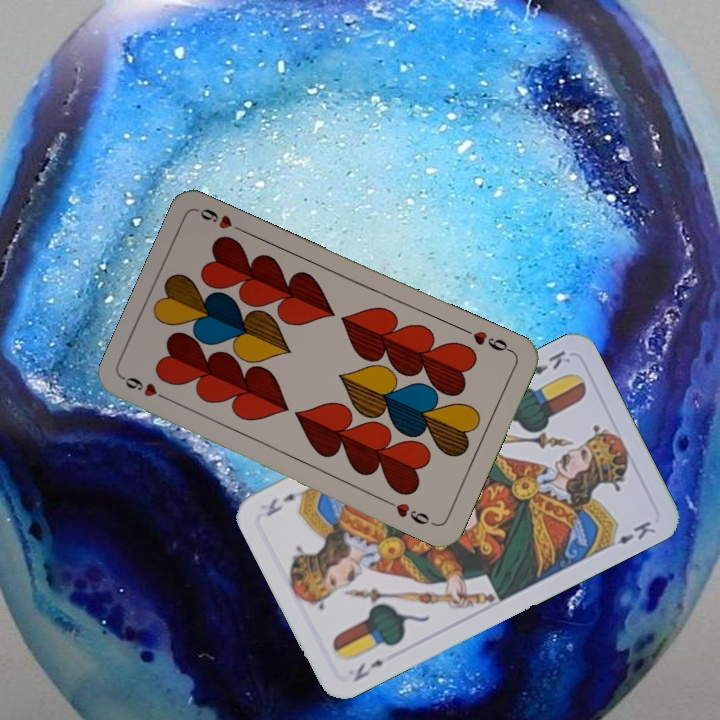EK: (528, 346, 574, 378), (349, 655, 387, 685)
H9: (459, 324, 515, 356), (120, 373, 176, 405)
